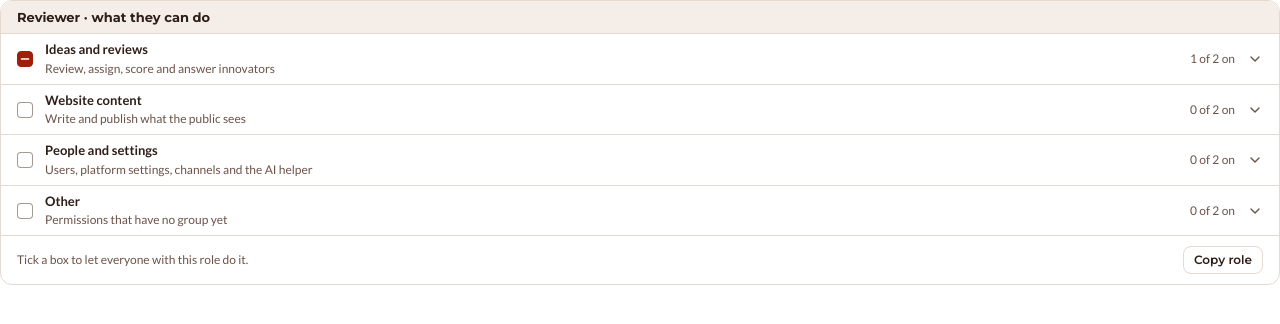
3.24 panel › saves a change from the sticky bar, and Cancel puts it back
Later steps or results of the test are not shown.
Expected: the text "Unsaved changes" is not shown
Click the checkbox named "All permissions in Ideas and reviews": click(25, 59) [17,51,33,67]
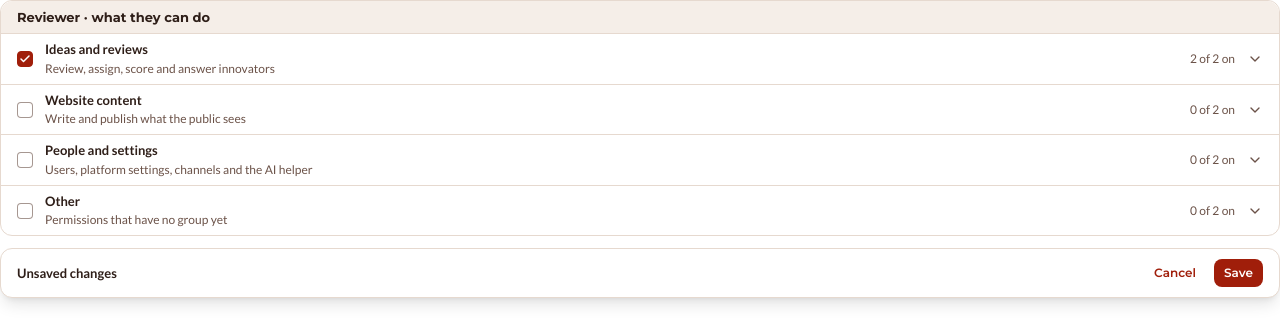
Now the text "Unsaved changes" is shown, box [17,264,117,283]
Click the button "Cancel": click(1175, 273) [1144,259,1206,287]
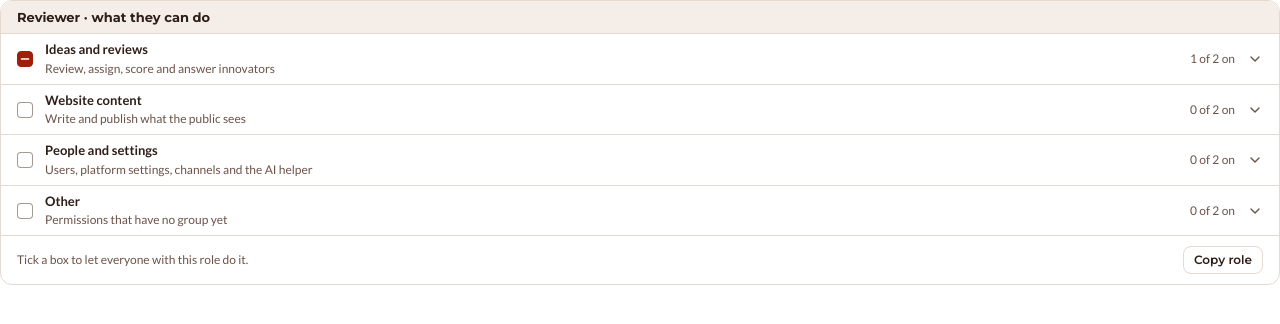
Now the text "Unsaved changes" is gone
